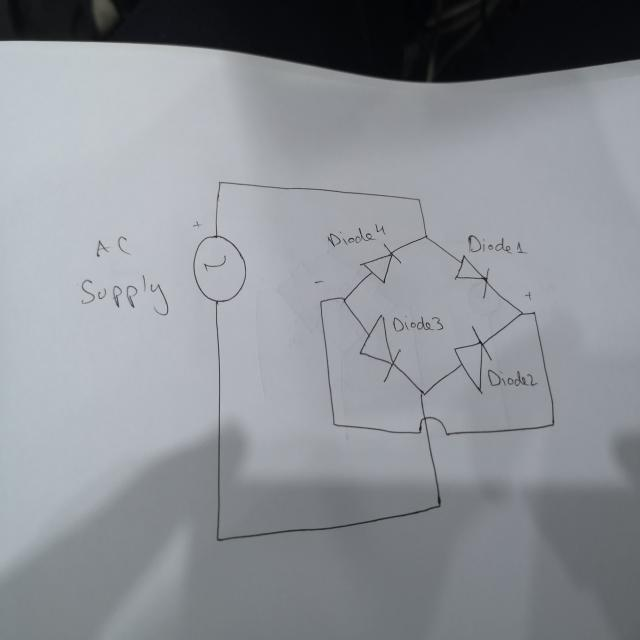crossover: (415, 414, 450, 440)
diode: (358, 311, 401, 383), (453, 323, 493, 396), (358, 241, 402, 285), (457, 255, 493, 294)
junction: (416, 384, 429, 399), (433, 496, 444, 512), (213, 532, 223, 546), (421, 230, 431, 242), (339, 294, 348, 306), (215, 177, 224, 188), (548, 418, 556, 430), (330, 418, 338, 429), (316, 296, 324, 306), (415, 194, 423, 203), (530, 309, 538, 316), (518, 309, 524, 317)
source: (189, 231, 248, 309)
text: (79, 271, 170, 318), (327, 222, 386, 248), (466, 232, 528, 255), (390, 313, 444, 334), (487, 367, 537, 388), (95, 234, 133, 260), (522, 287, 533, 301), (313, 275, 324, 287)
